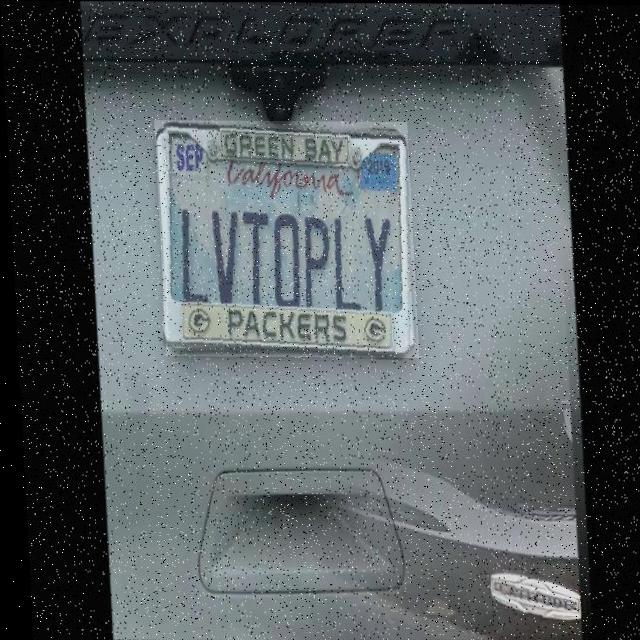LicensePlate: (153, 120, 415, 357)
